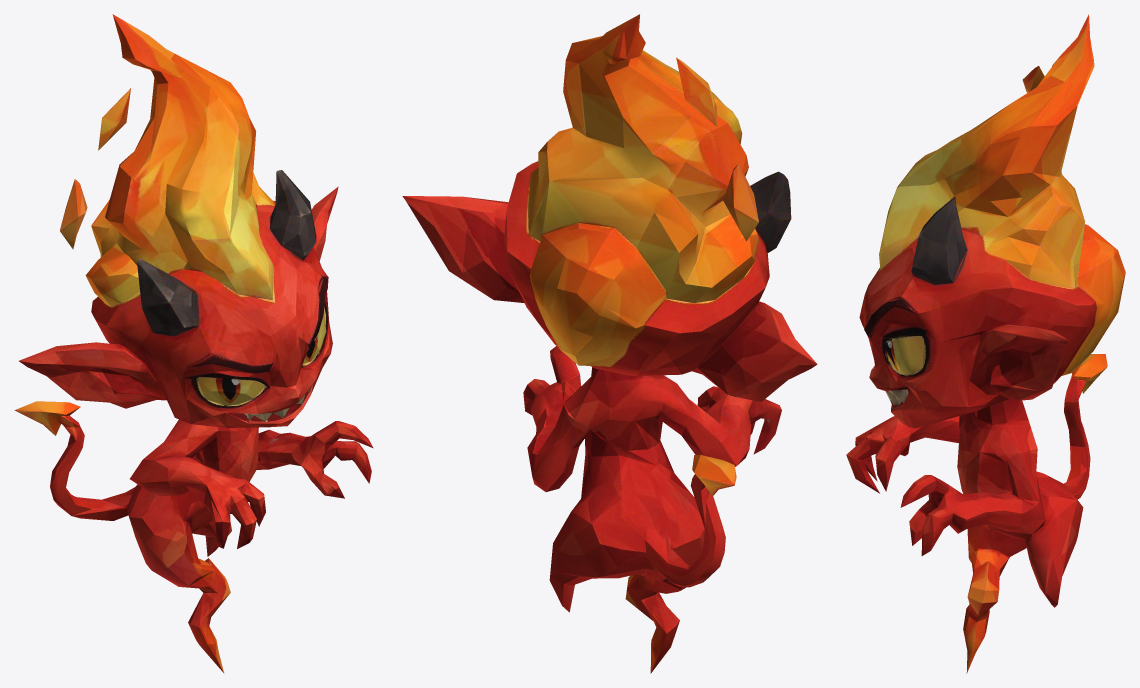
The model's file is fam_imp.glb.
The picture shows the model from 3 angles, left to right: view 1: azimuth 30°, elevation 25°; view 2: azimuth 150°, elevation 25°; view 3: azimuth 270°, elevation 25°; orthographic projection. The views are drawn at different scales.
Visible parts, largest first — view 1: output_unwrapped; view 2: output_unwrapped; view 3: output_unwrapped.
Part boxes in pixels (bbox=[...]): output_unwrapped: bbox=[14, 14, 373, 673]; output_unwrapped: bbox=[402, 14, 817, 673]; output_unwrapped: bbox=[846, 14, 1125, 673].
Bounding box in the file's own units: 1.08 × 1.9 × 0.759.
1 material, 1 textured.
